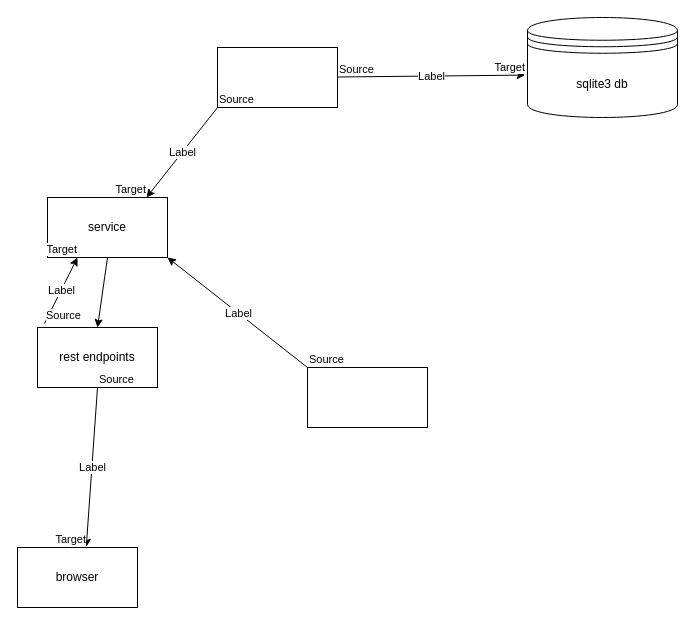
The diagram is 695 pixels wide and 625 high, and some of its shapes have lost their labels. Each missing label, with the box of its shape:
metro api interface: (306, 366, 428, 428)
storage: (216, 46, 338, 108)
